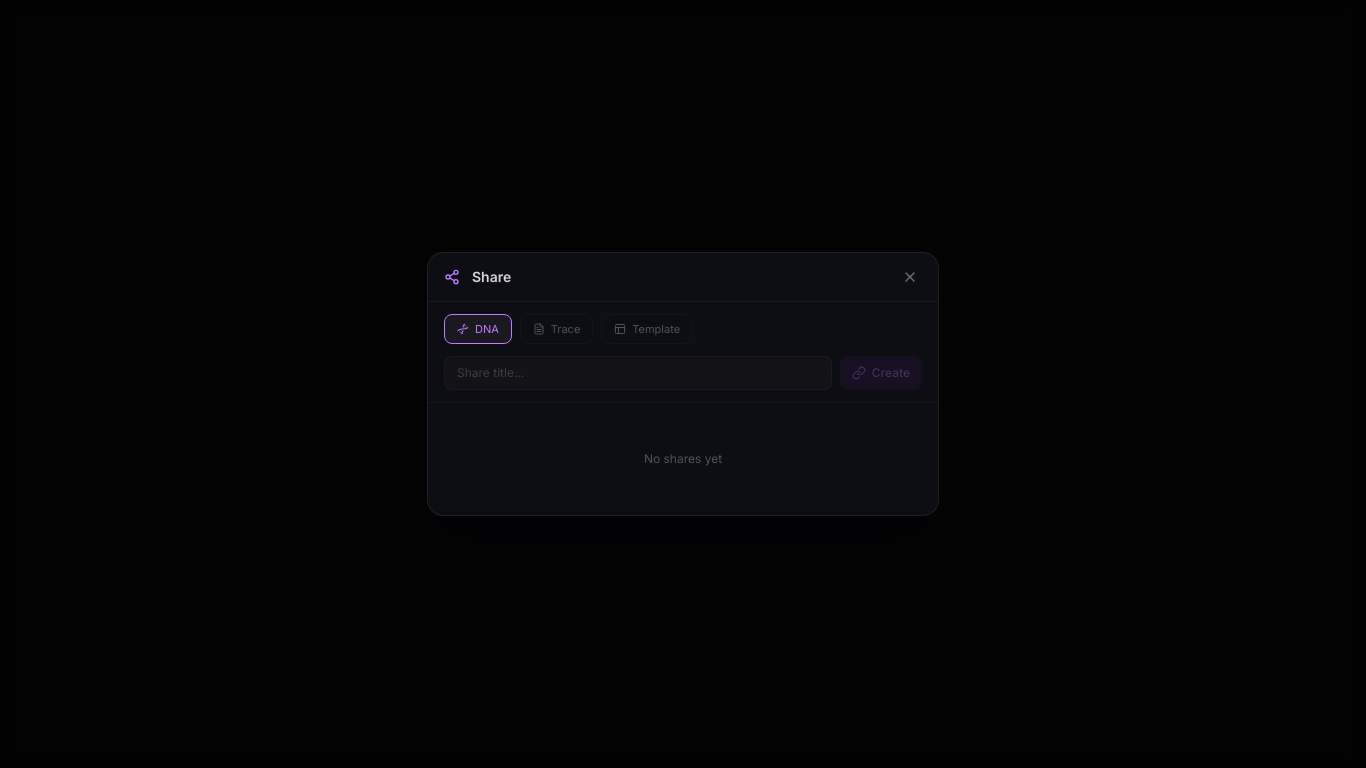
Scenario: ShareDialog › disables the create button when title is empty
Check: the button "Create" is disabled, box top-left (840, 356), bottom-right (922, 390)
Type "Some title" into the field with placeholder "Share title...".
click(638, 373); type("Some title")  # box top-left (444, 356), bottom-right (832, 390)
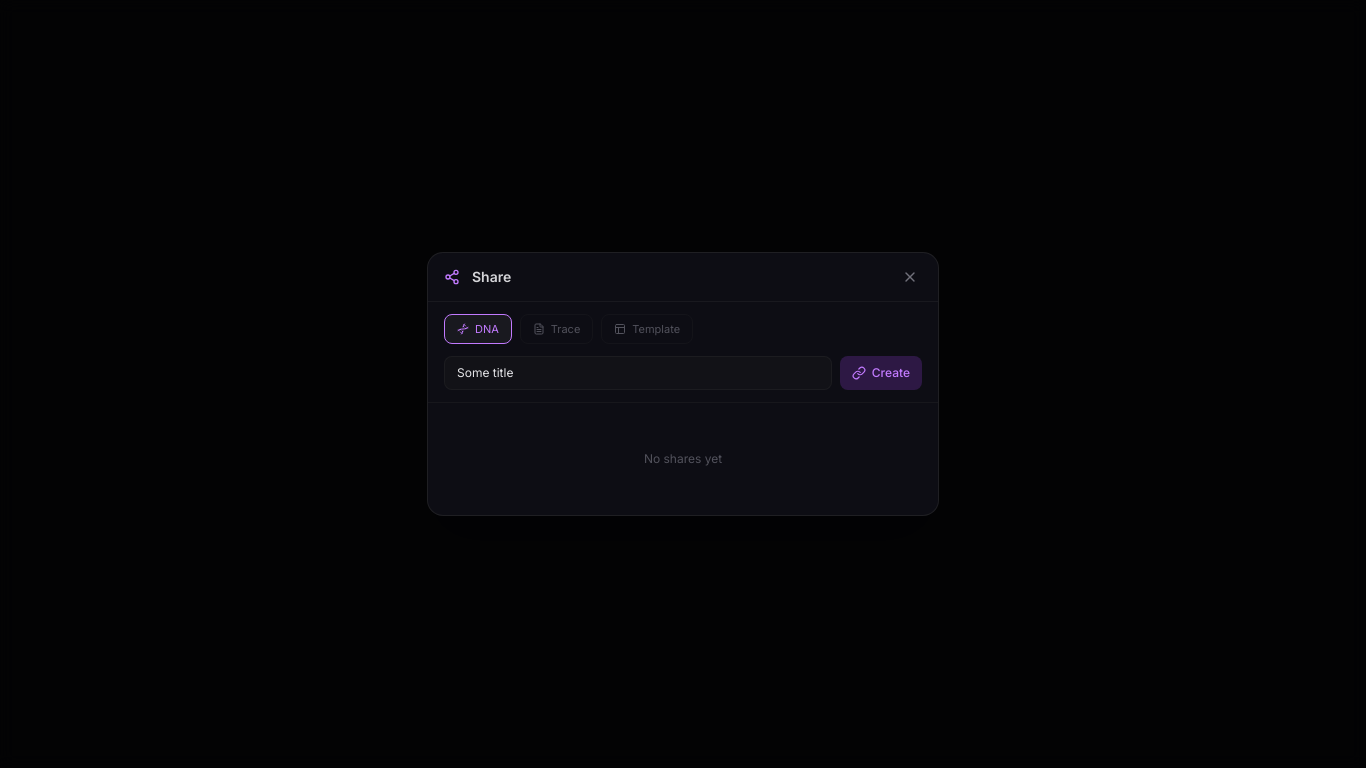
Check: the button "Create" is enabled, box top-left (840, 356), bottom-right (922, 390)
// Clear title again
Clear the field with placeholder "Share title..." at (638, 373), box top-left (444, 356), bottom-right (832, 390)
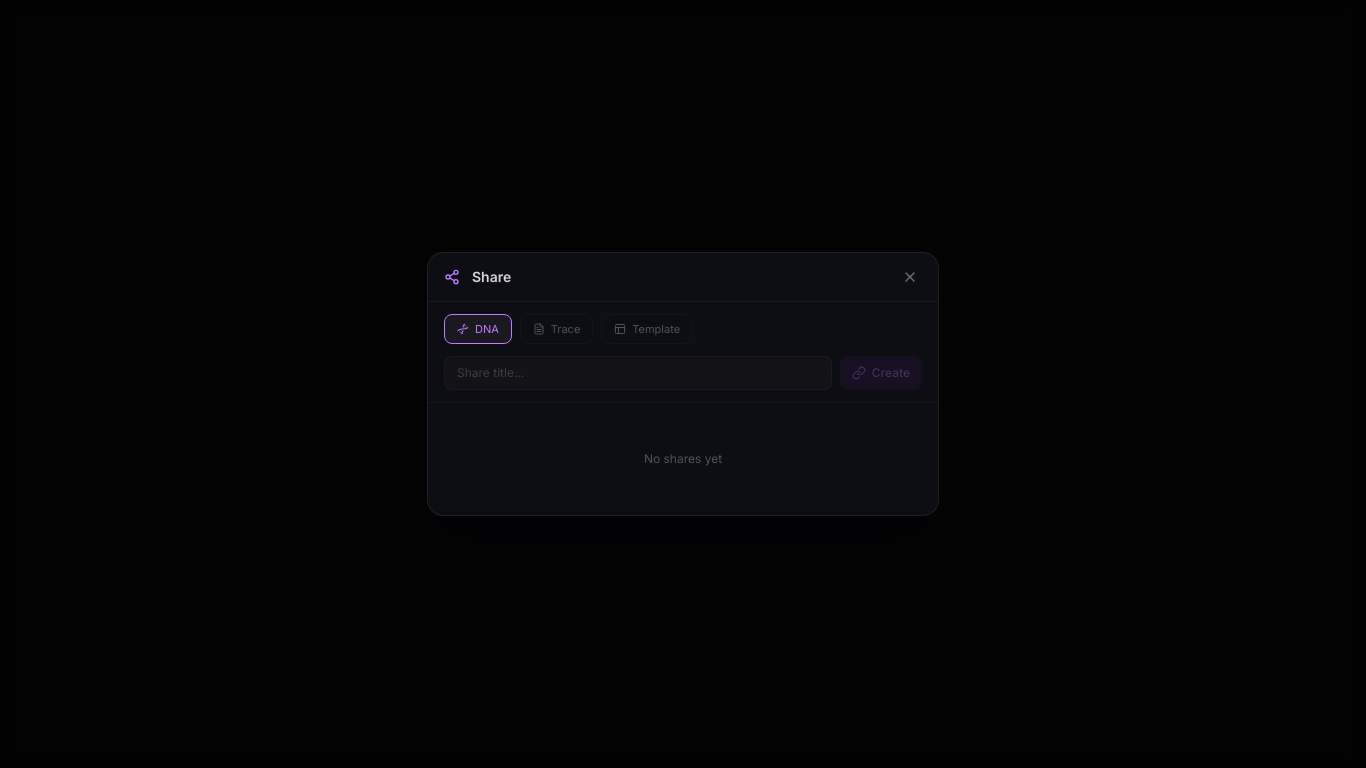
Check: the button "Create" is disabled, box top-left (840, 356), bottom-right (922, 390)
